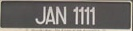character: (34, 4, 45, 25), (55, 4, 66, 24), (45, 5, 55, 24), (71, 5, 78, 24), (83, 6, 90, 25), (89, 6, 96, 25), (78, 6, 84, 25)
